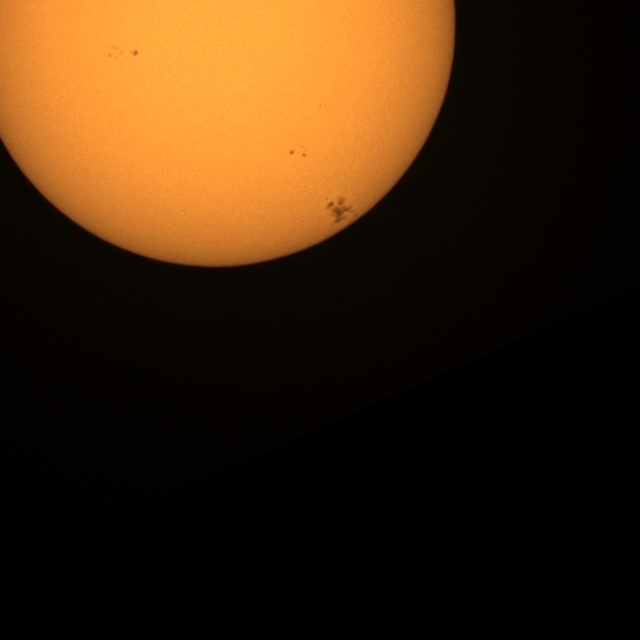sunspot: (325, 195, 355, 224), (108, 45, 140, 60), (289, 145, 308, 159), (108, 45, 124, 59), (299, 144, 308, 158), (131, 49, 140, 57), (301, 150, 308, 158), (289, 148, 296, 156), (318, 104, 322, 108)
